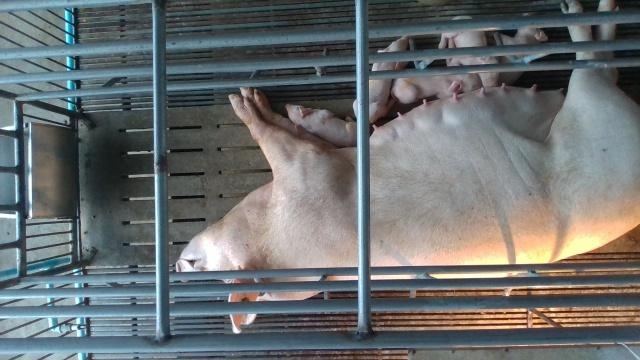piglet: (353, 36, 409, 124), (439, 17, 499, 86), (495, 12, 548, 86), (284, 103, 356, 146), (391, 75, 484, 105)
sow-sleep-lactate: (177, 2, 640, 335)
